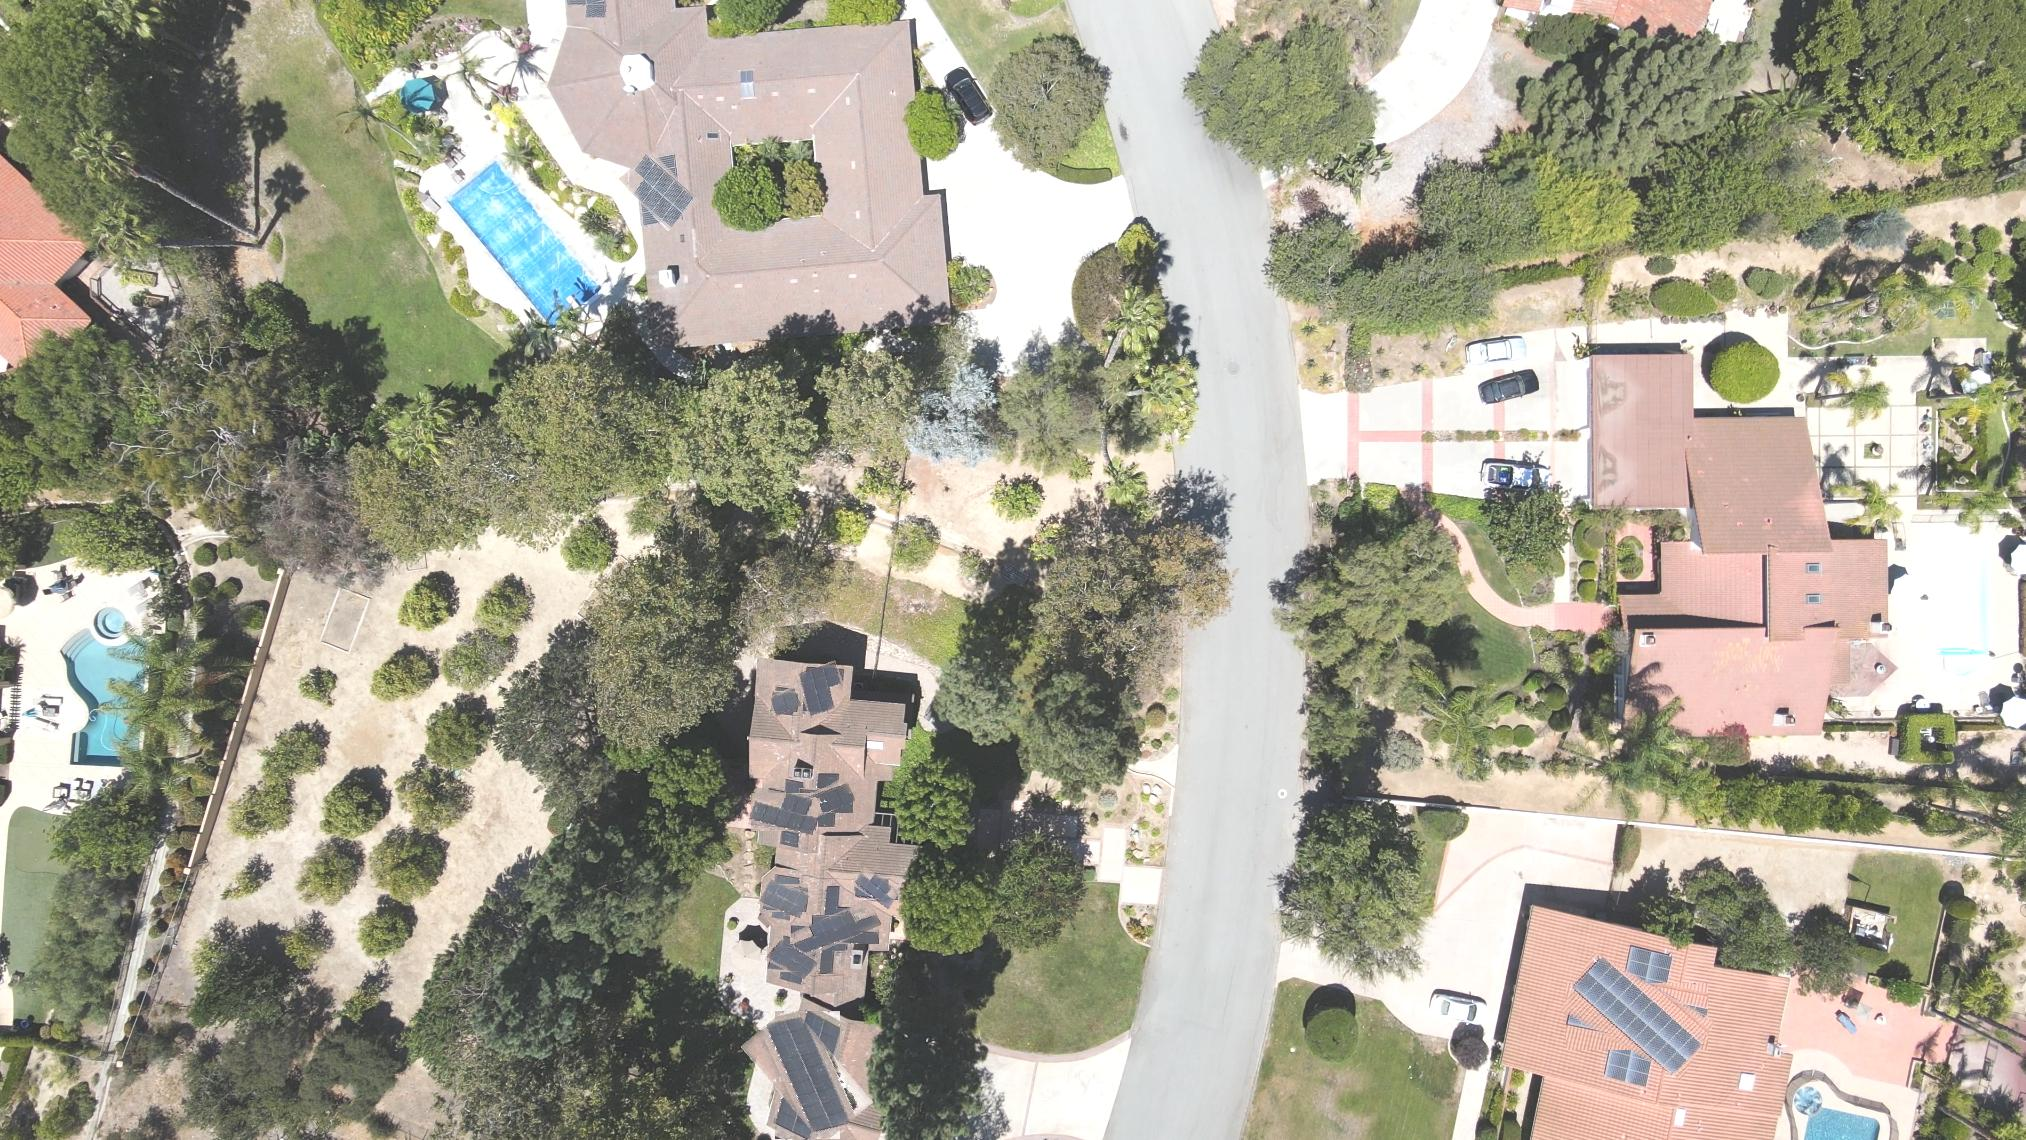solar-panels: (1572, 958, 1702, 1075), (765, 1018, 850, 1133), (633, 155, 696, 228), (793, 910, 881, 955), (749, 793, 817, 837), (799, 664, 842, 718), (767, 940, 818, 980), (797, 782, 854, 818), (760, 880, 810, 917), (853, 874, 895, 909), (768, 689, 800, 717), (568, 0, 607, 18)
